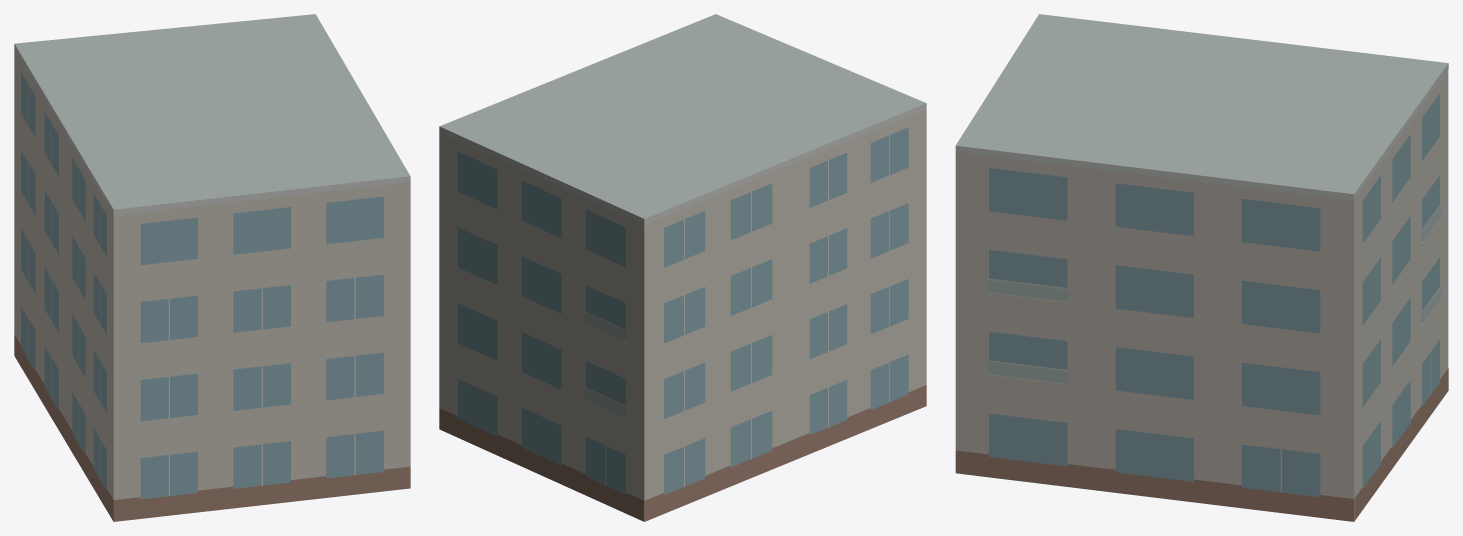
The model's file is survey-upis-32989069.glb.
3 views of the same model, side by side, from view 1: azimuth 30°, elevation 25°; view 2: azimuth 150°, elevation 25°; view 3: azimuth 270°, elevation 25° (orthographic). The views are drawn at different scales.
Parts seen in each view (by area): view 1: survey-upis-32989069.tmp; view 2: survey-upis-32989069.tmp; view 3: survey-upis-32989069.tmp.
Part boxes in pixels (x1,y1,x2,y2): survey-upis-32989069.tmp: [14, 14, 410, 521]; survey-upis-32989069.tmp: [439, 14, 926, 521]; survey-upis-32989069.tmp: [955, 14, 1448, 521].
Bounding box in the file's own units: 15.11 × 12.8 × 17.46.
